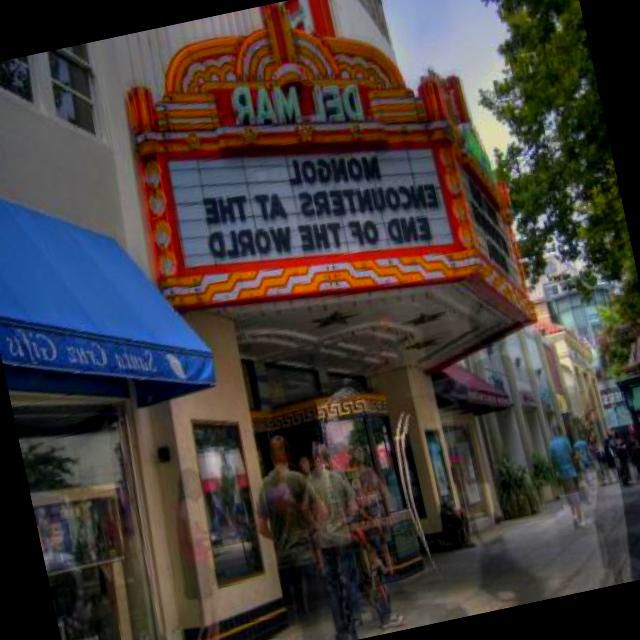Person: (291, 433, 392, 640), (241, 428, 337, 622), (145, 467, 242, 640), (543, 420, 587, 533), (602, 426, 635, 492), (584, 428, 614, 486)
